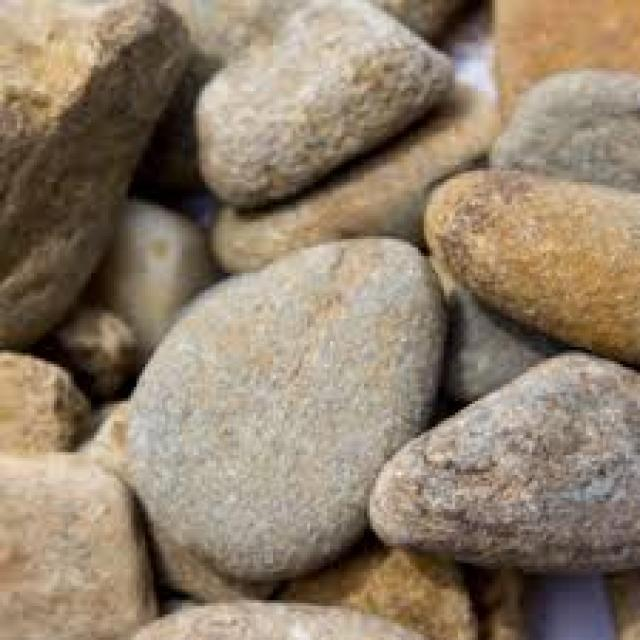Metamorphic: (3, 2, 631, 628)
